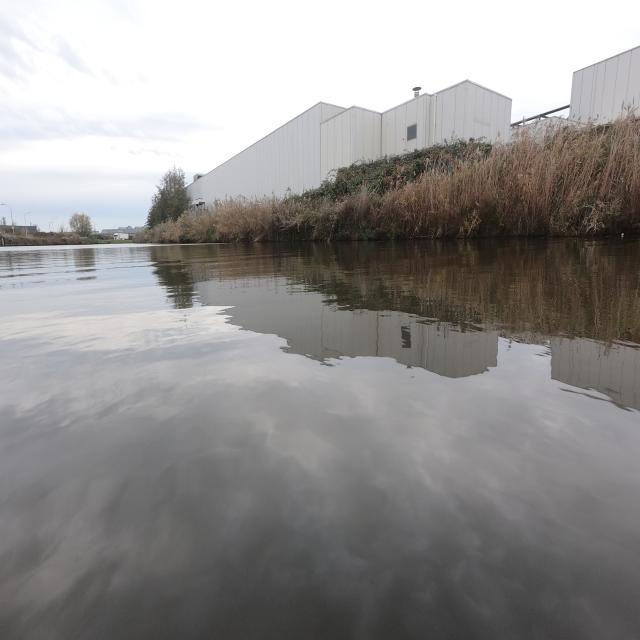reed: (147, 112, 640, 242)
water: (0, 236, 640, 640)
